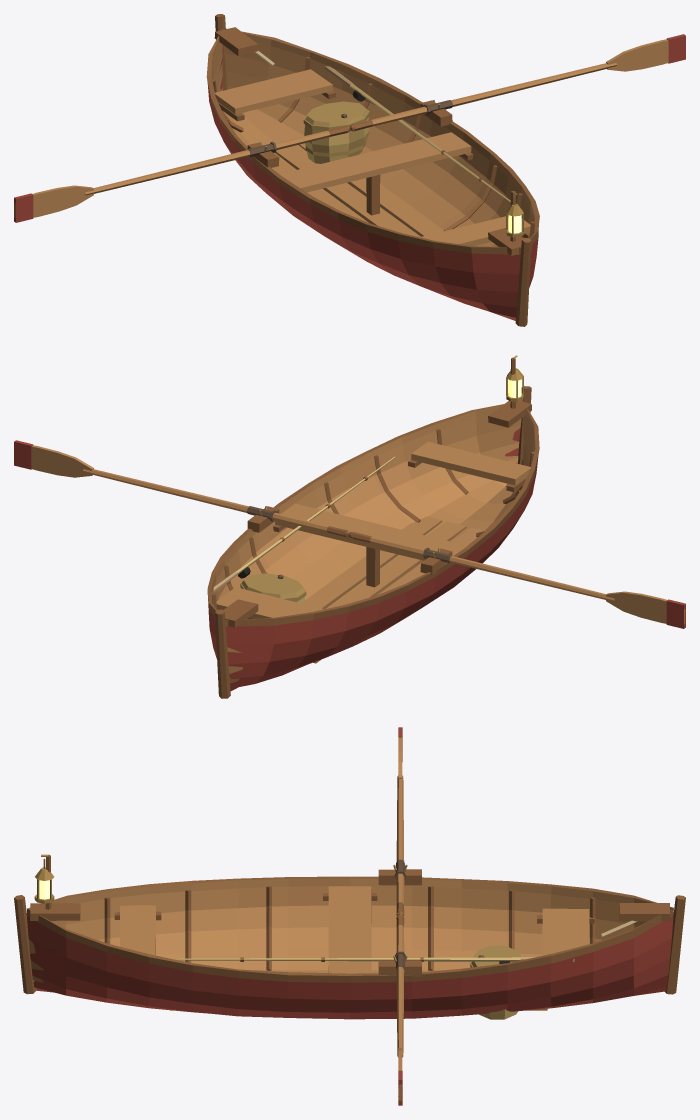
The model's file is boat.glb.
3 views of the same model, one above another, from view 1: azimuth 30°, elevation 25°; view 2: azimuth 150°, elevation 25°; view 3: azimuth 270°, elevation 25° (orthographic). The views are drawn at different scales.
Parts seen in each view (by area): view 1: boat, Oar_R, Oar_L, creel, creel_lid, rod_stowed, lantern; view 2: boat, Oar_R, Oar_L, creel_lid, rod_stowed, lantern; view 3: boat, Oar_L, Oar_R, rod_stowed, creel_lid, lantern.
Boxes of the visible parts, box(x1,y1,x2,y2) form: boat: box(206, 14, 539, 326); Oar_R: box(14, 125, 350, 222); Oar_L: box(349, 34, 685, 131); creel: box(303, 109, 369, 163); creel_lid: box(305, 101, 368, 126); rod_stowed: box(324, 66, 510, 201); lantern: box(506, 195, 523, 237); boat: box(207, 355, 539, 698); Oar_R: box(349, 532, 685, 628); Oar_L: box(14, 440, 350, 537); creel_lid: box(241, 573, 304, 598); rod_stowed: box(213, 456, 395, 592); lantern: box(506, 368, 523, 401); boat: box(14, 854, 685, 1019); Oar_L: box(395, 914, 405, 1105); Oar_R: box(394, 727, 406, 915); rod_stowed: box(179, 957, 574, 963); creel_lid: box(471, 945, 520, 967); lantern: box(34, 858, 54, 903).
Bounding box in the file's own units: 4.64 × 0.9025 × 3.74.
